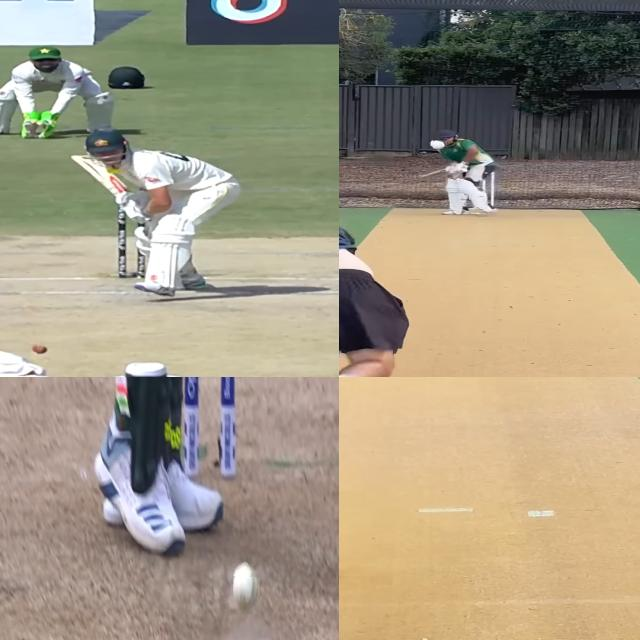Cricket ball: (231, 558, 260, 614), (427, 137, 447, 151), (31, 344, 49, 354)
